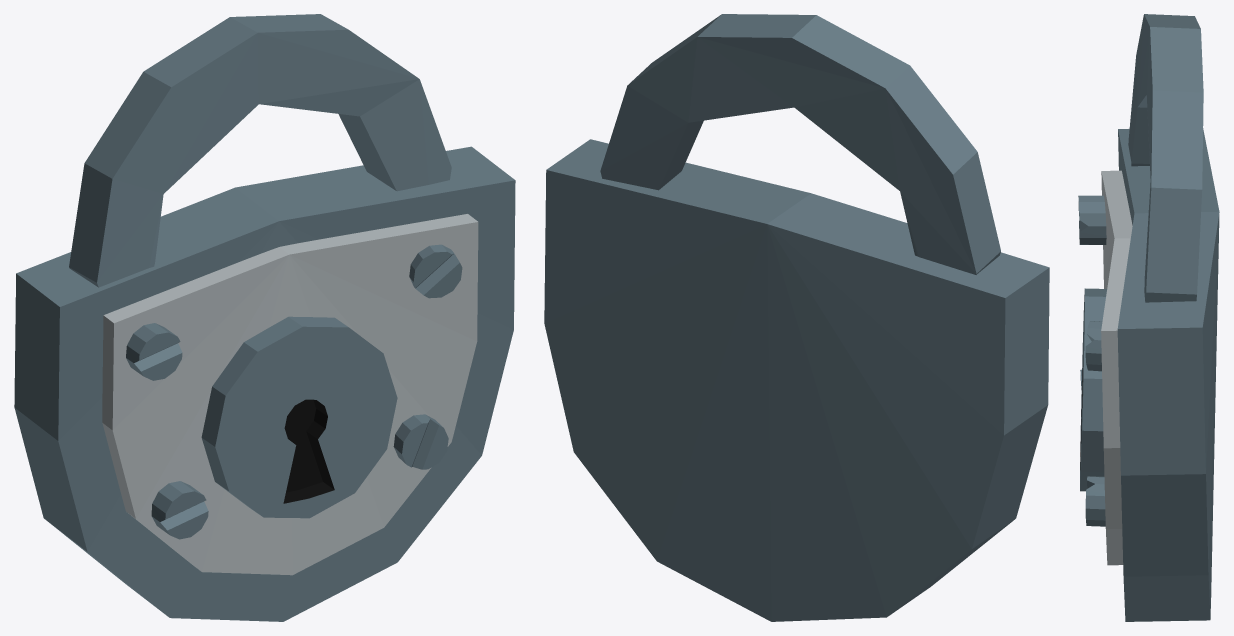
File: lock.glb
3 views of the same model, side by side, from view 1: azimuth 30°, elevation 25°; view 2: azimuth 150°, elevation 25°; view 3: azimuth 270°, elevation 25° (orthographic). The views are drawn at different scales.
Visible parts, largest first — view 1: node_MeshObject379783616-PolyPaper15; view 2: node_MeshObject379783616-PolyPaper15; view 3: node_MeshObject379783616-PolyPaper15.
Part boxes in pixels (box(x1,y1,x2,y2)): node_MeshObject379783616-PolyPaper15: box(14, 14, 515, 621); node_MeshObject379783616-PolyPaper15: box(544, 14, 1049, 621); node_MeshObject379783616-PolyPaper15: box(1078, 14, 1219, 621).
Bounding box in the file's own units: 0.3 × 0.367 × 0.0829.
